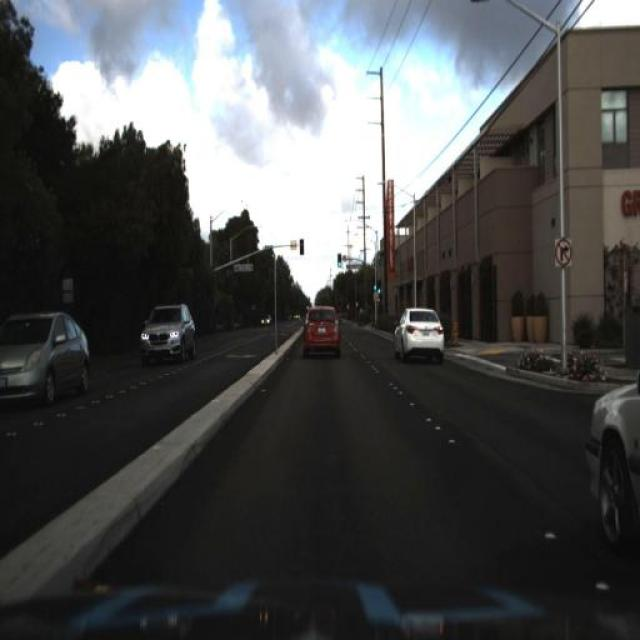car: (0, 311, 95, 414), (290, 289, 356, 365), (138, 296, 200, 375), (138, 297, 198, 368), (391, 294, 447, 368)
trafficLight-GreenLeft: (332, 246, 346, 276), (376, 284, 382, 304), (372, 279, 378, 297)
